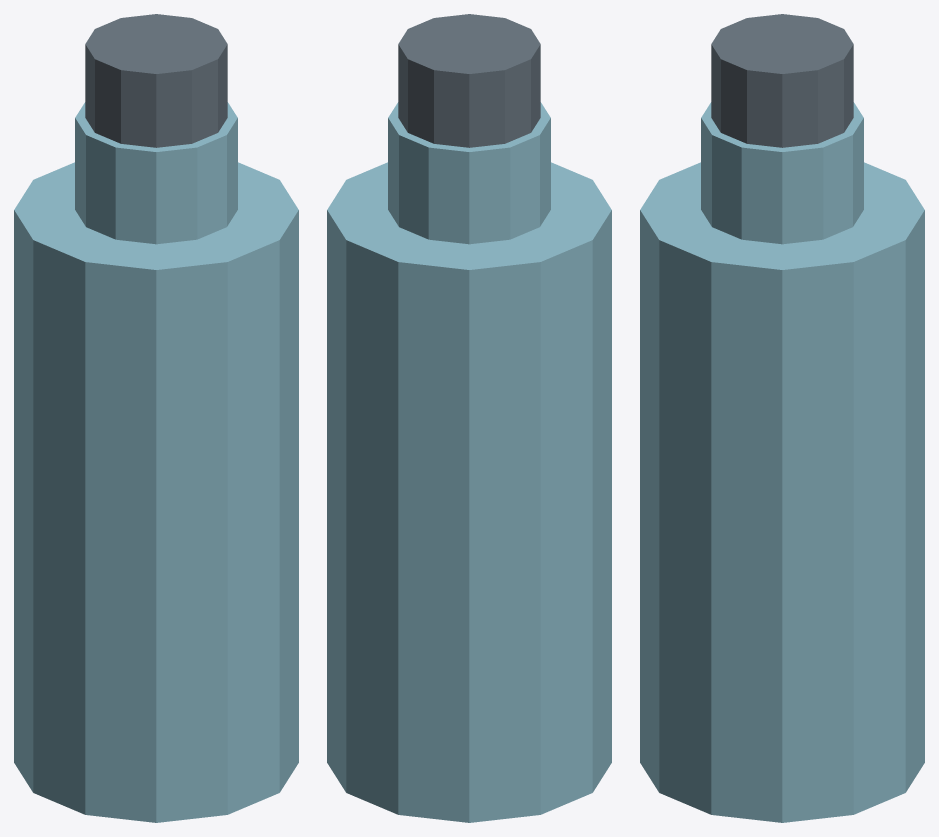
Rendered from bottle.glb.
3 views of the same model, side by side, from view 1: azimuth 30°, elevation 25°; view 2: azimuth 150°, elevation 25°; view 3: azimuth 270°, elevation 25° (orthographic).
Visible parts, largest first — view 1: bottle_000, bottle_002, bottle_001; view 2: bottle_000, bottle_002, bottle_001; view 3: bottle_000, bottle_002, bottle_001.
Boxes of the visible parts, x1=… form: bottle_000: x1=14, y1=162, x2=298, y2=822; bottle_002: x1=85, y1=14, x2=227, y2=147; bottle_001: x1=75, y1=102, x2=237, y2=244; bottle_000: x1=327, y1=162, x2=611, y2=822; bottle_002: x1=398, y1=14, x2=540, y2=147; bottle_001: x1=388, y1=102, x2=550, y2=244; bottle_000: x1=640, y1=162, x2=924, y2=822; bottle_002: x1=711, y1=14, x2=853, y2=147; bottle_001: x1=701, y1=102, x2=863, y2=244.
Bounding box in the file's own units: 0.14 × 0.39 × 0.14.
